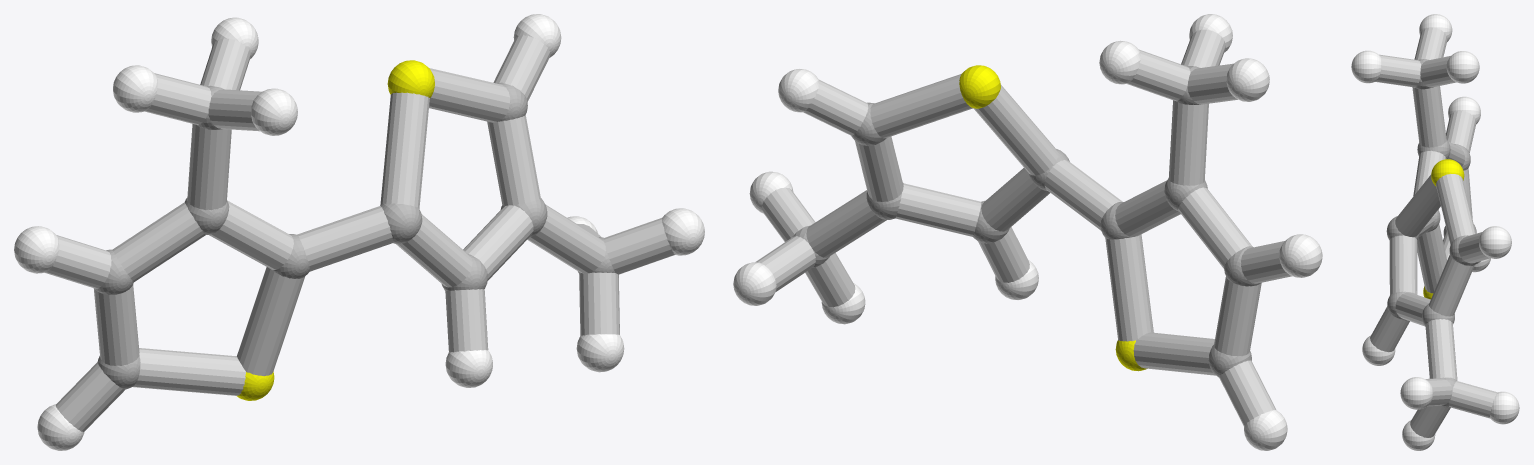
The model's file is Methylthiophene_Phi_40_Theta_340_Methylthiophene.glb.
The picture shows the model from 3 angles, left to right: view 1: azimuth 30°, elevation 25°; view 2: azimuth 150°, elevation 25°; view 3: azimuth 270°, elevation 25°; orthographic projection. The views are drawn at different scales.
Parts seen in each view (by area): view 1: grp7965, grp3621, grp1, grp7241; view 2: grp7965, grp3621, grp1, grp7241; view 3: grp7965, grp3621, grp1, grp7241.
Boxes of the visible parts, x1,y1,x2,y2 form: grp7965: [45, 35, 675, 431]; grp3621: [14, 14, 704, 450]; grp1: [94, 82, 615, 389]; grp7241: [237, 60, 434, 400]; grp7965: [755, 29, 1292, 426]; grp3621: [733, 14, 1322, 450]; grp1: [792, 66, 1260, 377]; grp7241: [959, 65, 1147, 371]; grp7965: [1370, 27, 1497, 437]; grp3621: [1351, 14, 1519, 450]; grp1: [1386, 59, 1477, 407]; grp7241: [1423, 159, 1464, 299].
Size of the model in its own units: 9.46 by 5.68 by 3.05.
